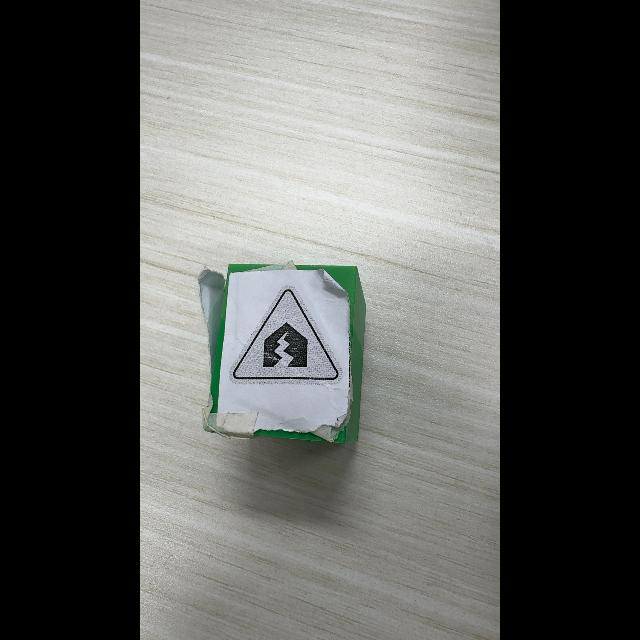Earthquake: (230, 288, 339, 382)
